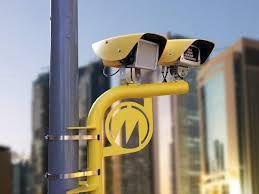Speed-Camera: (87, 25, 219, 87)
